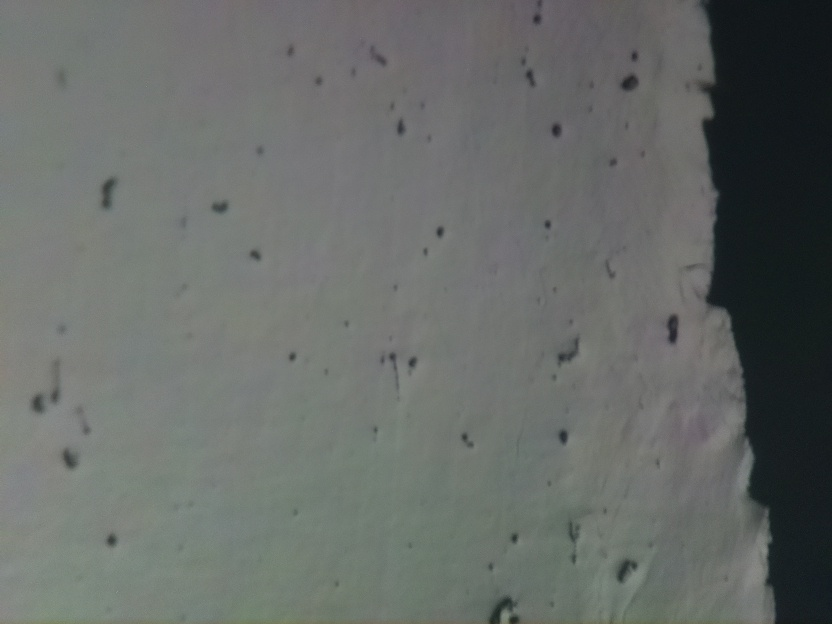crack: (697, 0, 832, 624)
